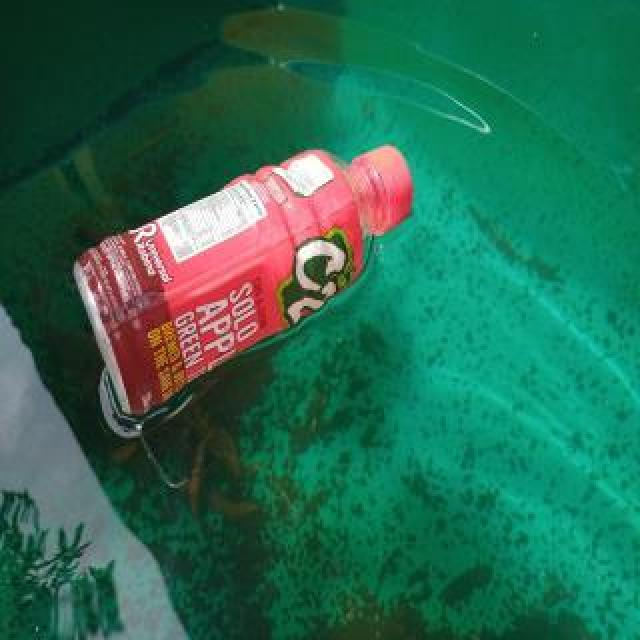bottle: (69, 136, 415, 420)
